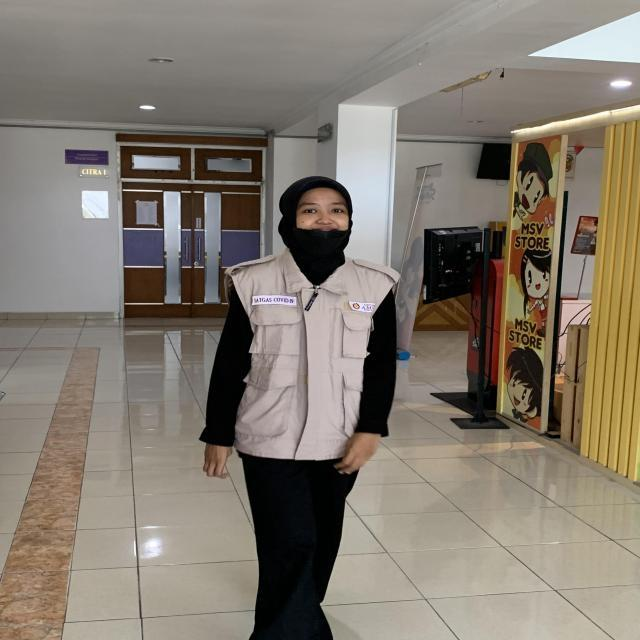hairnet: (276, 174, 352, 262)
